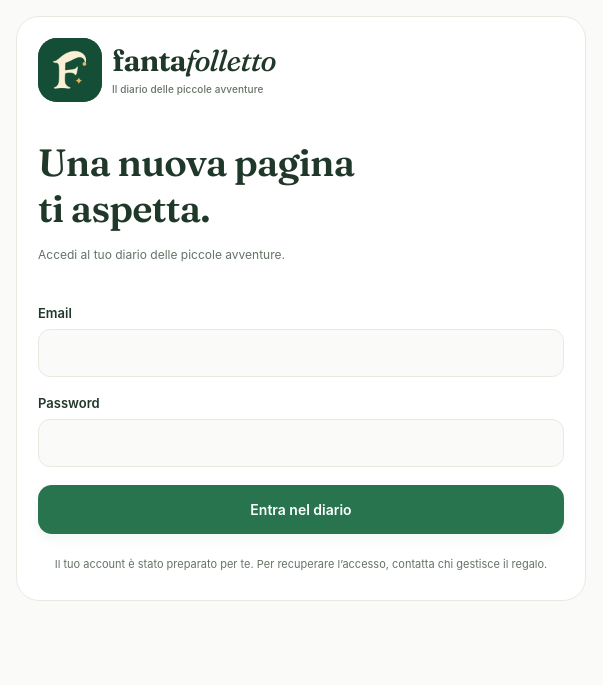
Test: mostra il login senza registrazione pubblica e spiega un errore di accesso
This screenshot has width=603, height=685.
Type "player@example.test" into the field labelled "Email" at (301, 353), box [38,329,564,377]
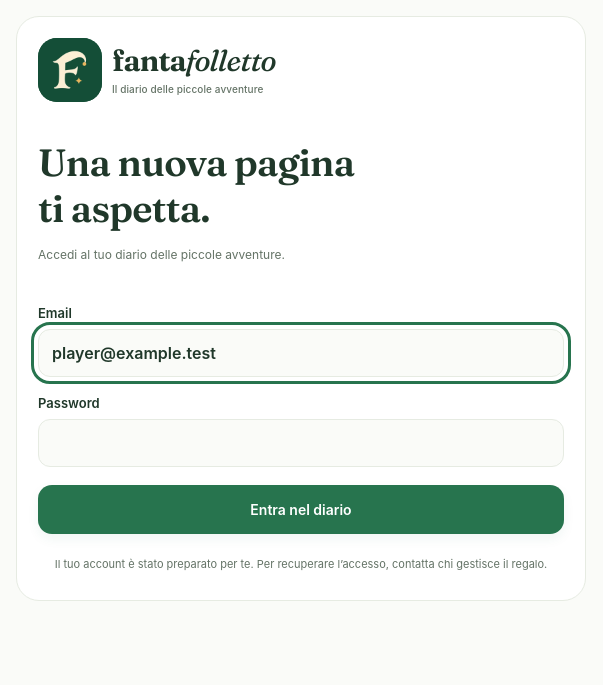
Type "example-password" into the password field labelled "Password" at (301, 443), box [38,419,564,467]
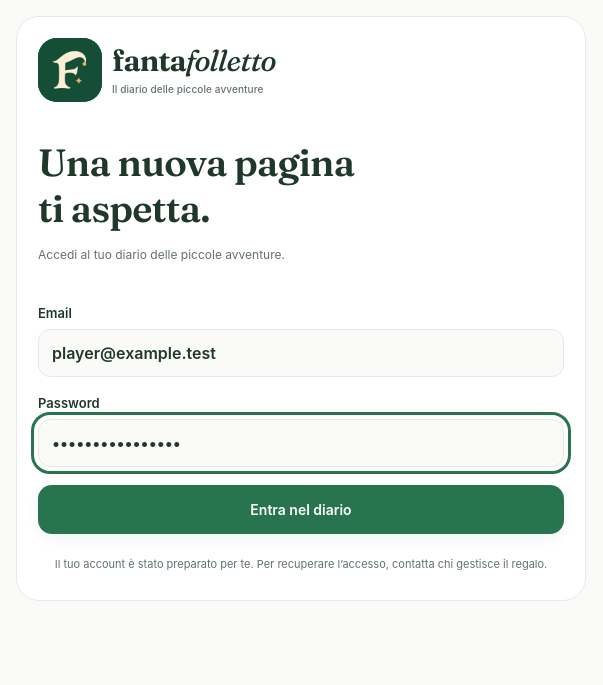
Click the button "Entra nel diario" at (301, 510), box [38,485,564,534]
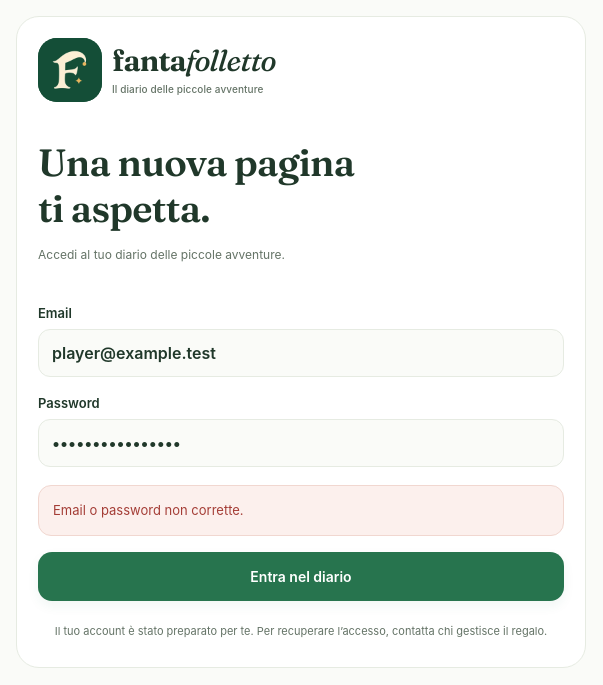
Check: the text "Email o password non corrette." is shown, box [38,485,564,536]
